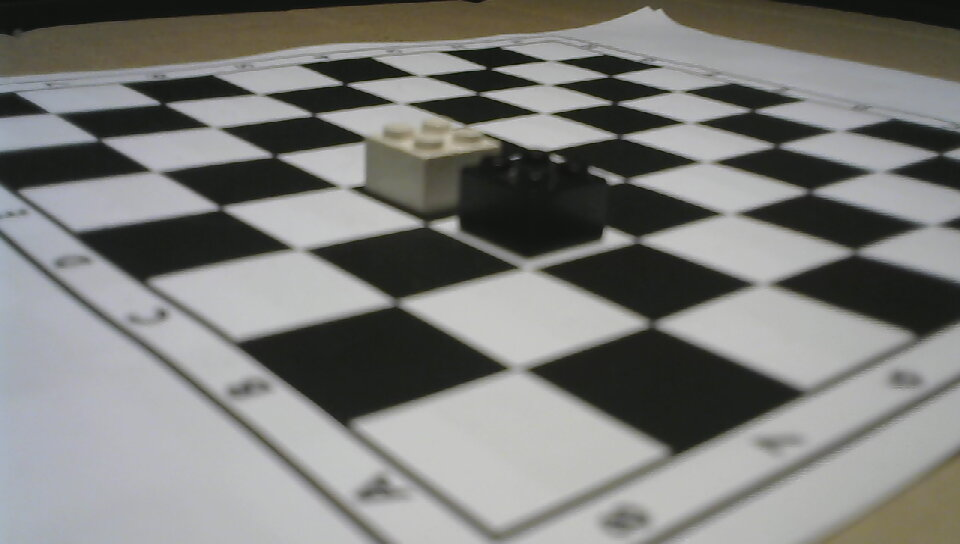wp: (348, 112, 461, 216)
